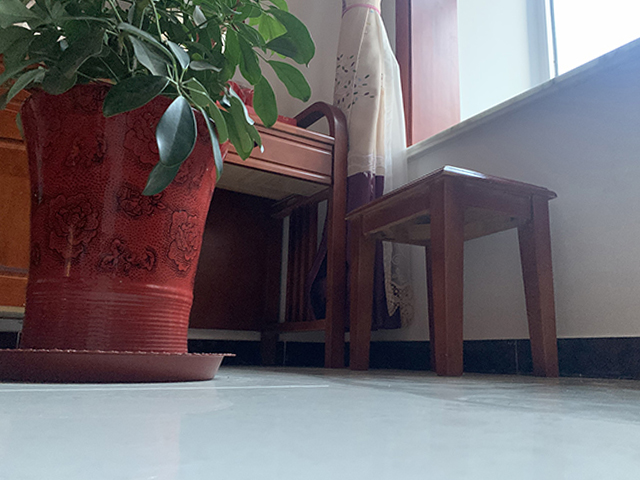curtain: (338, 1, 411, 329)
stool: (343, 165, 560, 379)
table: (209, 99, 347, 370)
